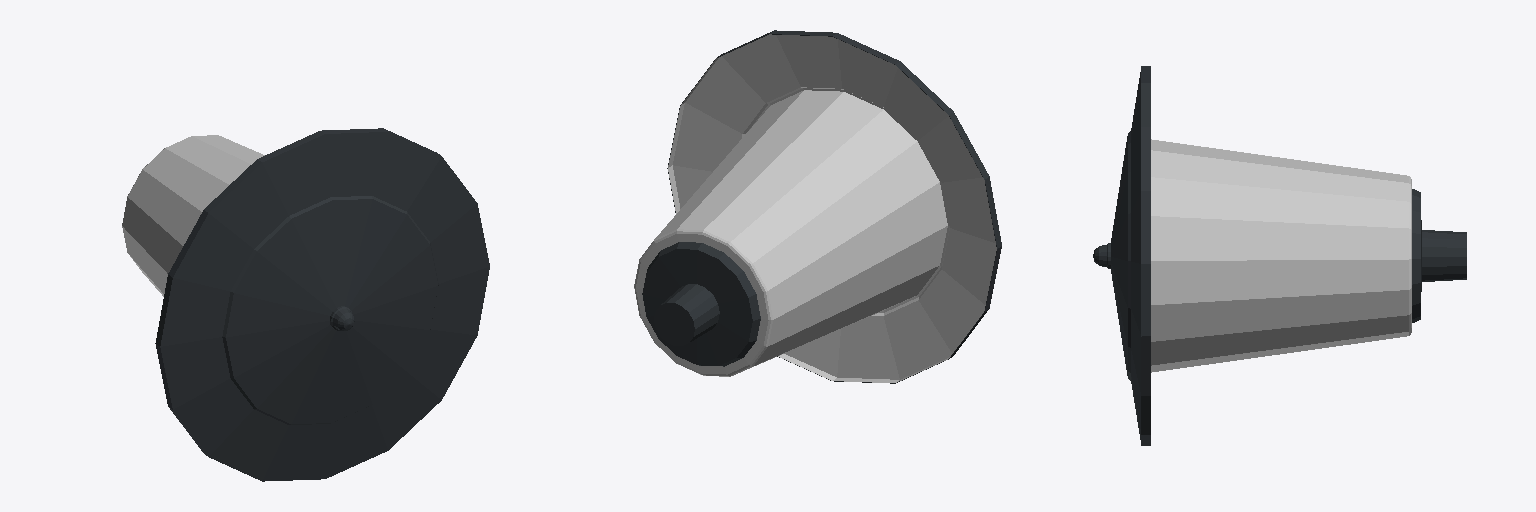
3 renders of one model, left to right at view 1: azimuth 30°, elevation 25°; view 2: azimuth 150°, elevation 25°; view 3: azimuth 270°, elevation 25°, orthographic.
Parts seen in each view (by area): view 1: BezierCurve.001, Glas; view 2: BezierCurve.001, Glas; view 3: Glas, BezierCurve.001.
Boxes of the visible parts, x1=… form: BezierCurve.001: x1=155, y1=128, x2=489, y2=481; Glas: x1=122, y1=135, x2=264, y2=296; BezierCurve.001: x1=642, y1=30, x2=1001, y2=383; Glas: x1=634, y1=90, x2=947, y2=376; Glas: x1=1151, y1=139, x2=1411, y2=372; BezierCurve.001: x1=1093, y1=66, x2=1466, y2=445.
Size of the model in its own units: 0.5984 by 0.5984 by 0.5878.
3 materials, 1 textured.